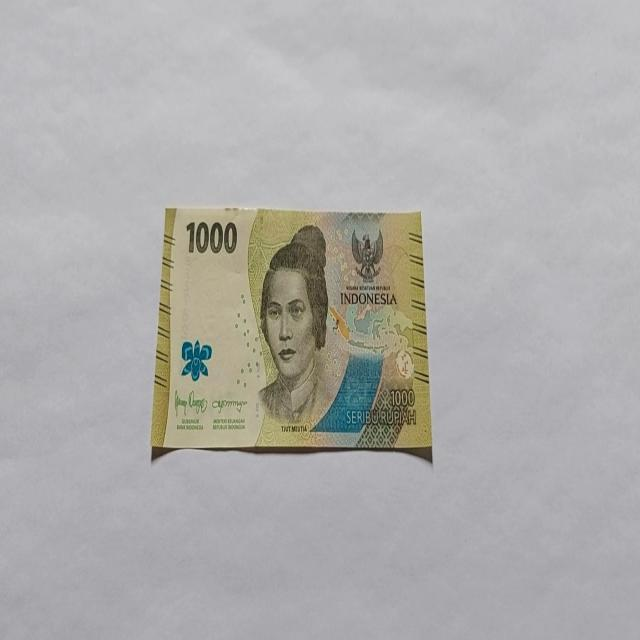seribu rupiah kertas: (150, 204, 432, 462)
